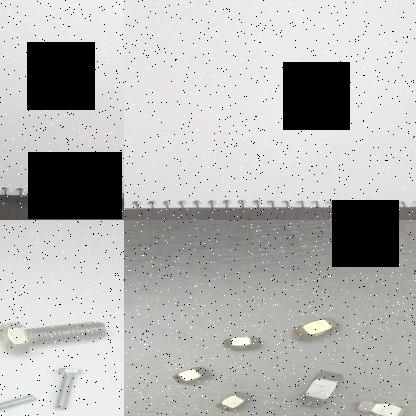Bolts: (0, 313, 108, 360), (44, 366, 86, 412), (0, 392, 37, 416)
NUTS: (294, 371, 350, 408), (276, 314, 342, 340), (203, 389, 265, 416), (166, 361, 216, 389), (212, 333, 265, 358), (350, 399, 416, 416)
